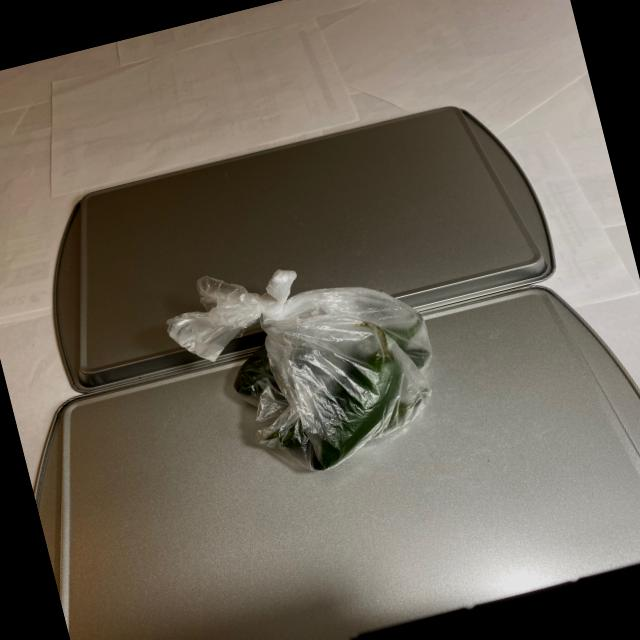chilli: (200, 277, 460, 495)
